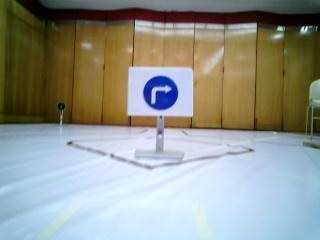right: (129, 68, 193, 115)
